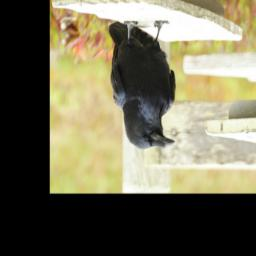Crow: (108, 20, 177, 150)
